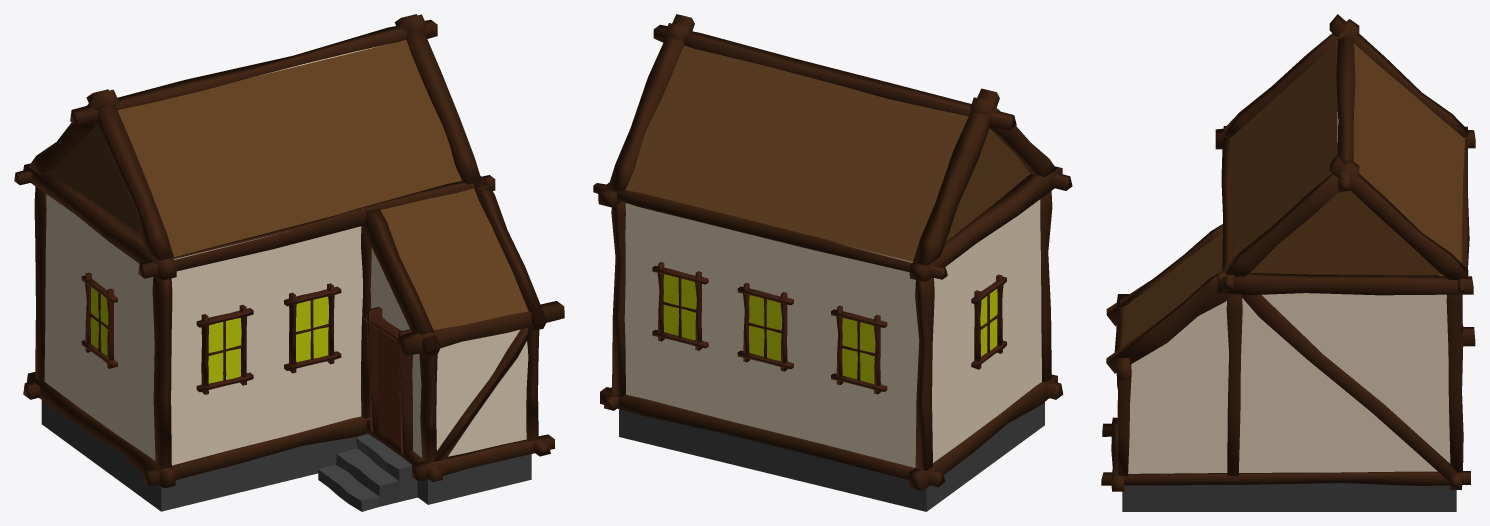
The model's file is tavern.glb.
3 renders of one model, left to right at view 1: azimuth 30°, elevation 25°; view 2: azimuth 150°, elevation 25°; view 3: azimuth 270°, elevation 25°, orthographic. The views are drawn at different scales.
Visible parts, largest first — view 1: body/col, Stairs, Cube.027, Cube.035, Cube.032, Cube.025, Cube.004, Cube.008, Cube.031, Cube.029, Fenetre.005, Cube.028 (+17 smaller); view 2: body/col, Cube.035, Cube.009, Cube.026, Cube.034, Cube.025, Cube.033, Cube.001, Cube.007, Cube.002, Cube.004, Vitre.003 (+8 smaller); view 3: body/col, Cube.024, Cube.010, Cube.023, Cube.033, Cube.031, Cube.030, Cube.003, Cube.002, Cube.035, Cube.032, Cube.034 (+7 smaller).
Boxes of the visible parts, x1,y1,x2,y2 form: body/col: [41, 40, 531, 511]; Stairs: [318, 434, 417, 511]; Cube.027: [138, 175, 495, 278]; Cube.035: [70, 19, 437, 126]; Cube.032: [86, 89, 173, 260]; Cube.025: [23, 163, 176, 280]; Cube.004: [152, 276, 172, 469]; Cube.008: [143, 416, 370, 486]; Cube.031: [394, 14, 480, 184]; Cube.029: [362, 205, 440, 358]; Fenetre.005: [363, 307, 412, 455]; Cube.028: [399, 301, 564, 355]; body/col: [619, 45, 1044, 511]; Cube.035: [653, 24, 1016, 130]; Cube.009: [600, 387, 945, 487]; Cube.026: [593, 183, 947, 279]; Cube.034: [913, 88, 999, 265]; Cube.025: [909, 166, 1062, 282]; Cube.033: [608, 14, 694, 191]; Cube.001: [915, 277, 934, 470]; Cube.007: [909, 374, 1057, 491]; Cube.002: [611, 201, 625, 396]; Cube.004: [1040, 191, 1052, 382]; Vitre.003: [842, 318, 875, 383]; body/col: [1121, 42, 1465, 511]; Cube.024: [1217, 273, 1473, 295]; Cube.010: [1101, 471, 1470, 485]; Cube.023: [1242, 294, 1457, 481]; Cube.033: [1329, 154, 1468, 279]; Cube.031: [1224, 159, 1359, 276]; Cube.030: [1106, 269, 1232, 373]; Cube.003: [1226, 294, 1242, 476]; Cube.002: [1446, 294, 1462, 472]; Cube.035: [1336, 38, 1355, 192]; Cube.032: [1224, 19, 1359, 138]; Cube.034: [1329, 14, 1468, 136].
Bounding box in the file's own units: 7.12 × 7.01 × 6.72.
